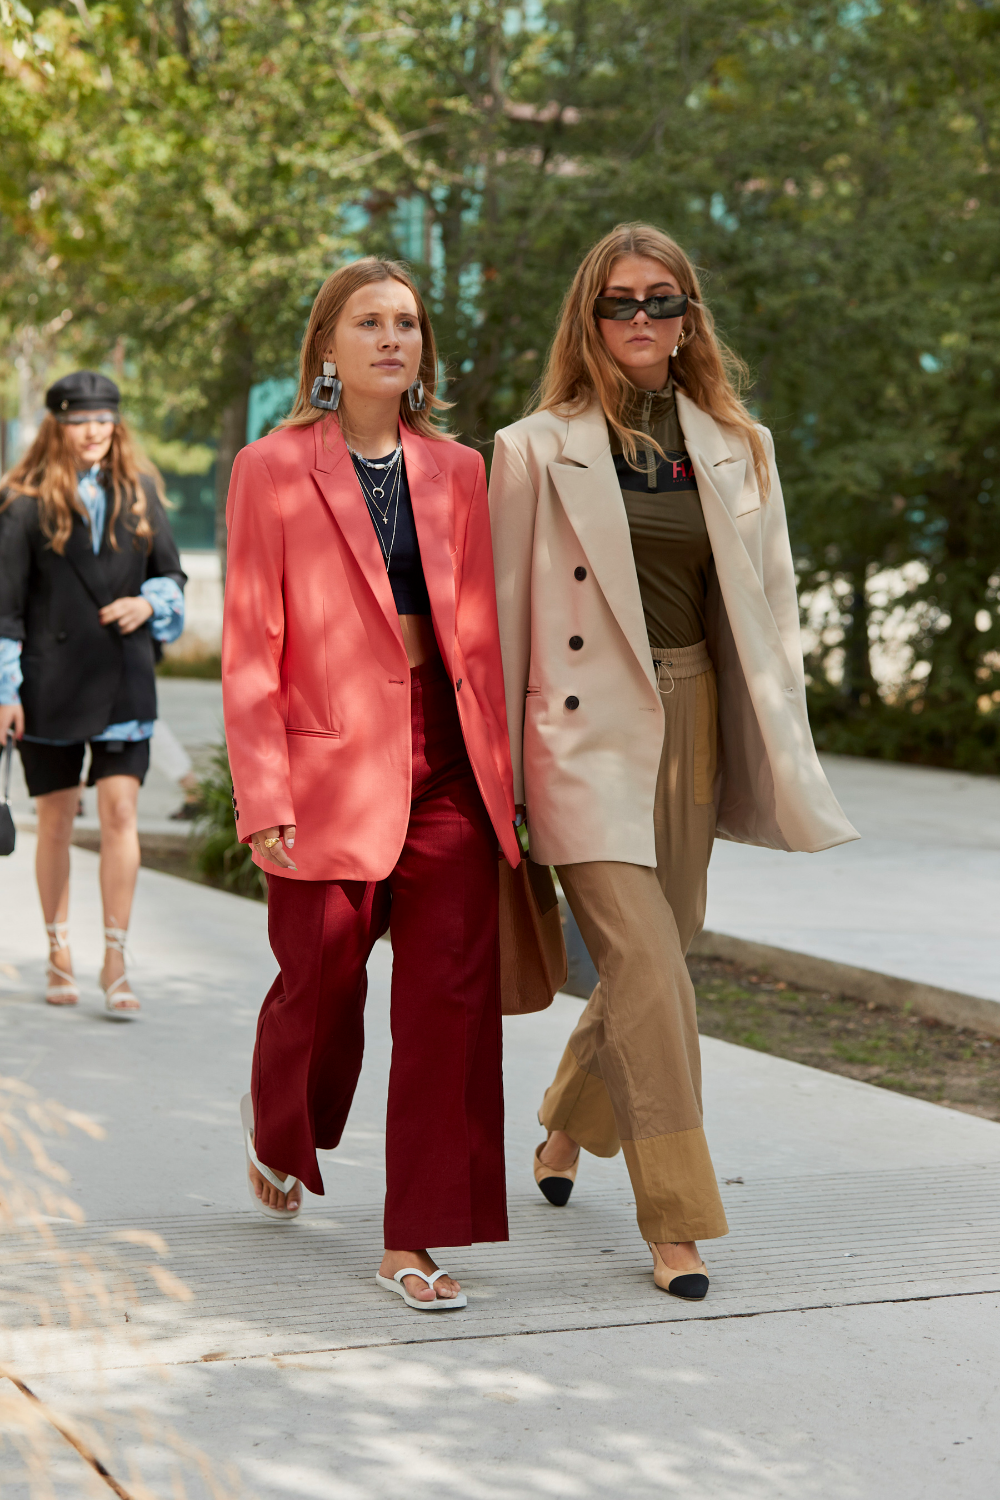Person: (460, 211, 867, 1328), (223, 238, 535, 1345), (11, 333, 184, 1045)
